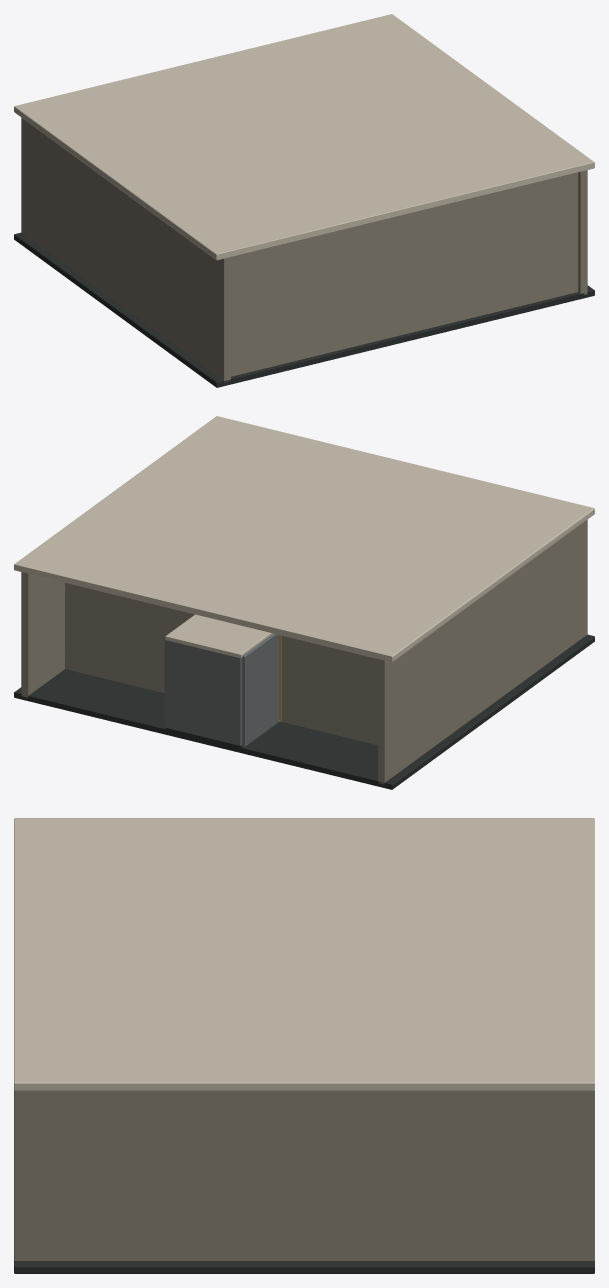
Rendered from architecture.glb.
3 renders of one model, top to bottom at view 1: azimuth 30°, elevation 25°; view 2: azimuth 150°, elevation 25°; view 3: azimuth 270°, elevation 25°, orthographic. The views are drawn at different scales.
Visible parts, largest first — view 1: ceiling, lobby-far-wall, side-wall--1, floor, side-wall-1; view 2: ceiling, side-wall--1, floor, wing-1, wing--1, car-rear, side-wall-1, reveal--1, car-ceiling; view 3: ceiling, side-wall-1, floor.
Boxes of the visible parts, left/top/right/bottom form: ceiling: left=14, top=14, right=594, bottom=260; lobby-far-wall: left=231, top=172, right=578, bottom=376; side-wall--1: left=21, top=117, right=230, bottom=382; floor: left=14, top=232, right=594, bottom=387; side-wall-1: left=578, top=170, right=587, bottom=294; ceiling: left=14, top=416, right=594, bottom=662; side-wall--1: left=378, top=519, right=587, bottom=784; floor: left=14, top=634, right=594, bottom=789; wing-1: left=65, top=582, right=194, bottom=693; wing--1: left=281, top=635, right=377, bottom=745; car-rear: left=166, top=640, right=242, bottom=745; side-wall-1: left=21, top=572, right=64, bottom=697; reveal--1: left=242, top=633, right=278, bottom=746; car-ceiling: left=165, top=614, right=272, bottom=658; ceiling: left=14, top=818, right=594, bottom=1091; side-wall-1: left=14, top=1091, right=594, bottom=1260; floor: left=14, top=1261, right=594, bottom=1273.
Size of the model in its own units: 14.02 by 4.73 by 13.
Materials: 5 (2 with a texture image).
